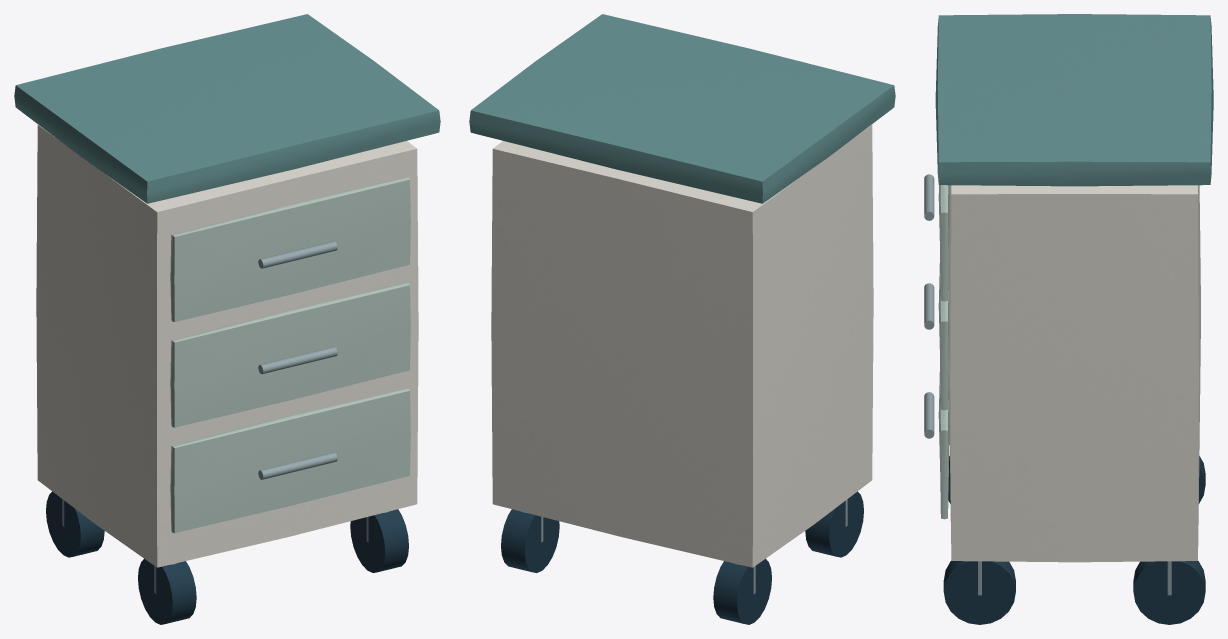
The model's file is medicine-trolley.glb.
3 views of the same model, side by side, from view 1: azimuth 30°, elevation 25°; view 2: azimuth 150°, elevation 25°; view 3: azimuth 270°, elevation 25° (orthographic). The views are drawn at different scales.
Parts seen in each view (by area): view 1: medicine-trolley; view 2: medicine-trolley; view 3: medicine-trolley.
Boxes of the visible parts, bbox=[...] form: medicine-trolley: bbox=[14, 14, 440, 624]; medicine-trolley: bbox=[469, 14, 895, 624]; medicine-trolley: bbox=[924, 14, 1213, 624].
Bounding box in the file's own units: 0.56 × 0.837 × 0.458.
Materials: 16 (16 with a texture image).
